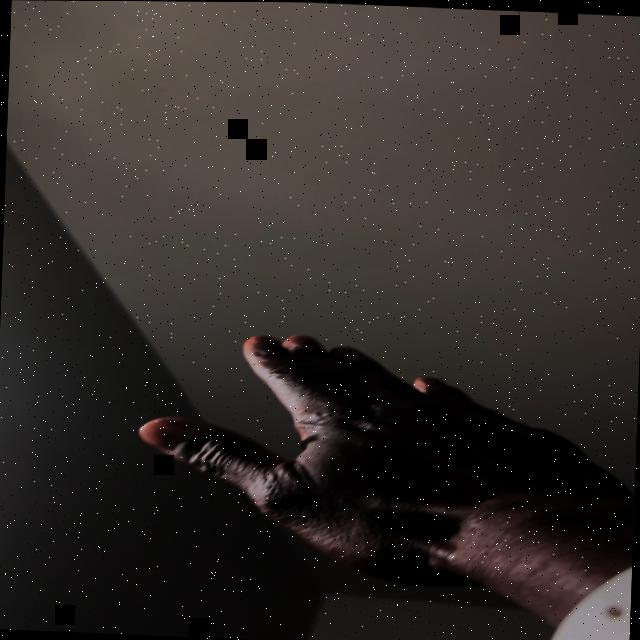Paper: (125, 327, 639, 597)
